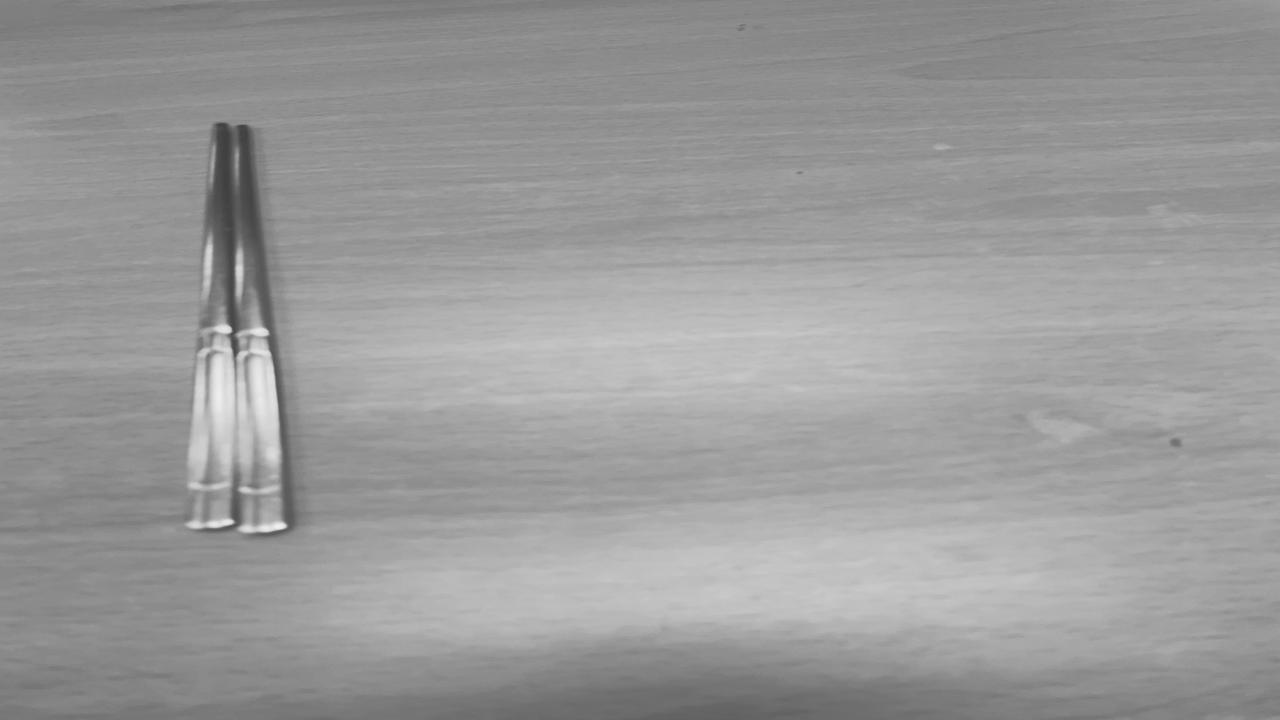chopstick: (188, 121, 284, 533)
